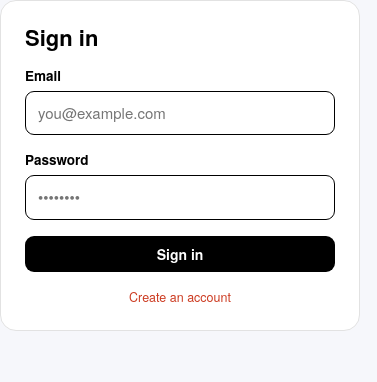
Test: LoginPage › shows the server error message verbatim and does not redirect on failure
The width and height of the screenshot is (377, 382).
In the field labelled "Email": (180, 113) [25,91,335,135], type "a@b.co"
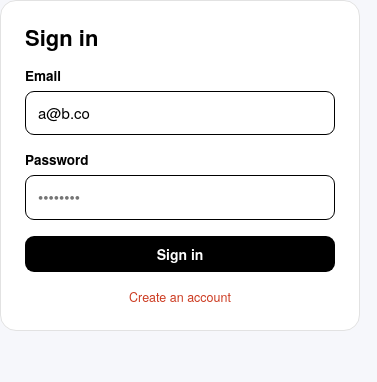
In the password field labelled "Password": (180, 198) [25,176,335,220], type "wrong"
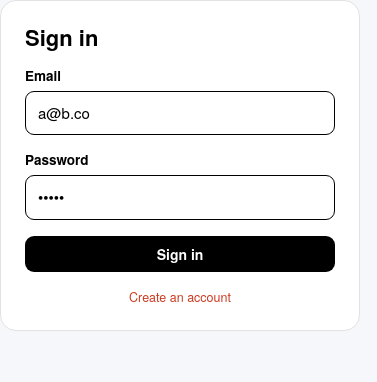
Click the button "Sign in": (180, 254) [25,236,335,272]
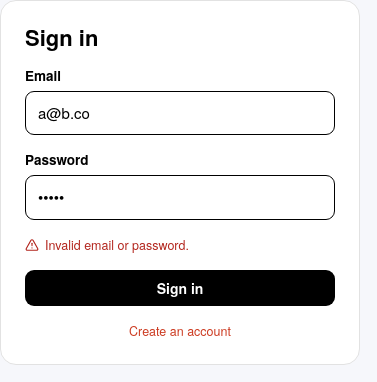
Check: the text "Invalid email or password." is shown, box [25,236,189,254]
